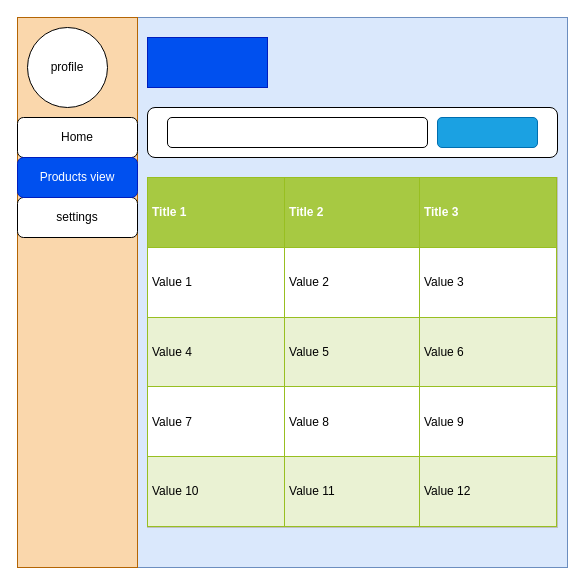
Image size: 585x585. Some labels were removed from this diagram. Here are the shapes that lost their labels. From the top down, the centre of each, then its label:
At (207,62): "Products".
At (487,132): "Search".
